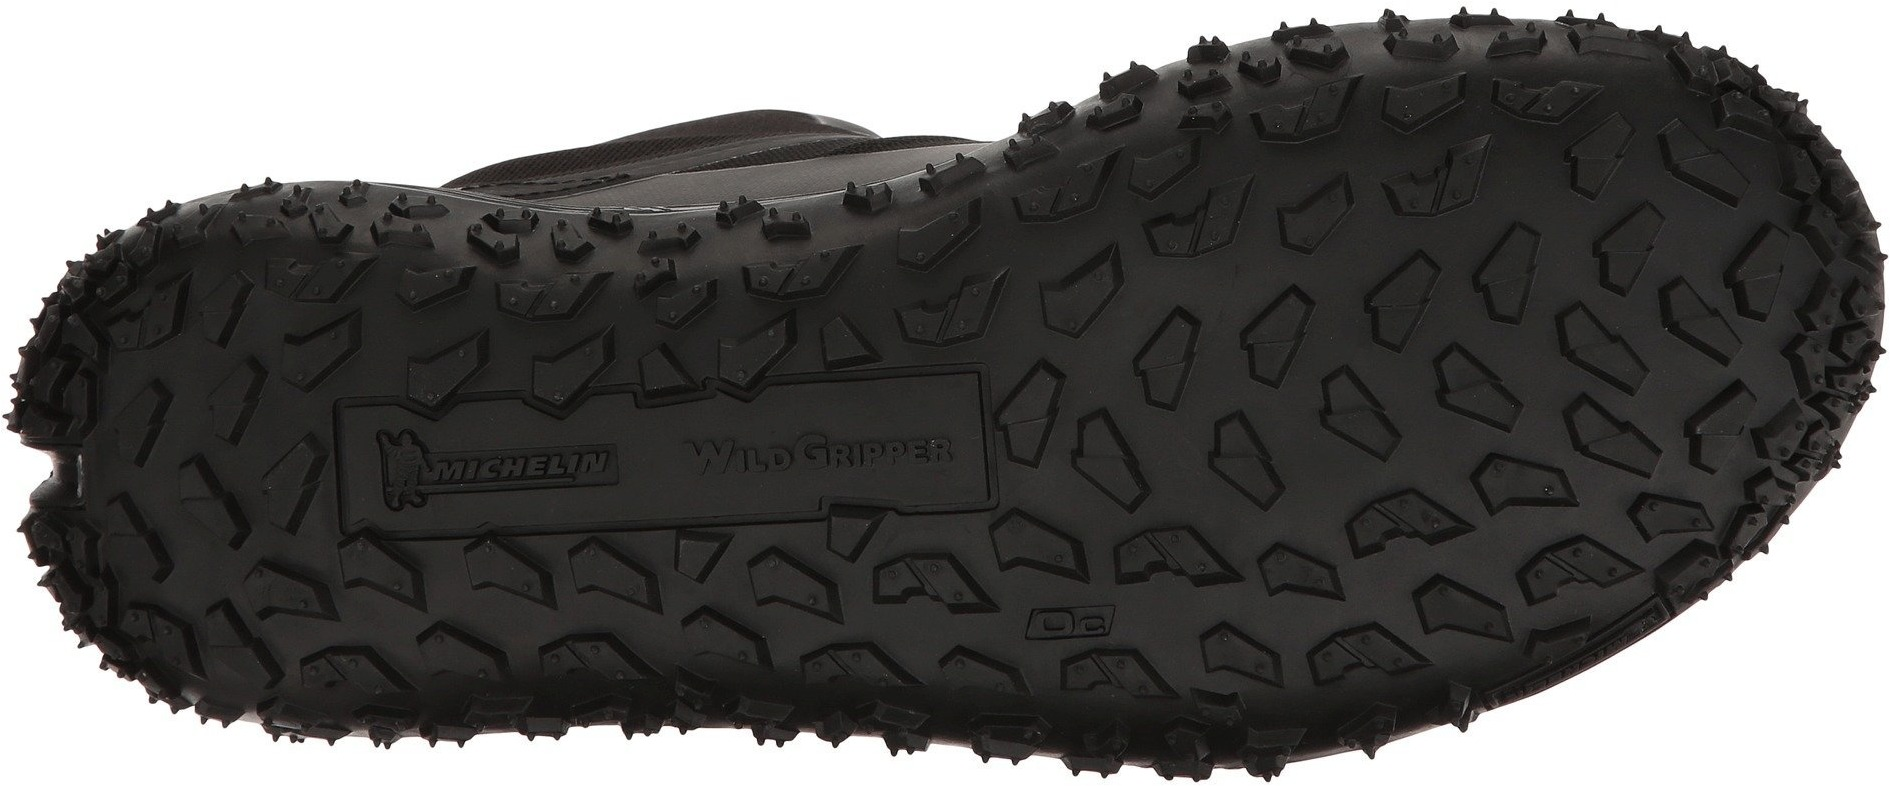chevron: (397, 262, 614, 458), (877, 497, 1097, 690), (454, 493, 670, 682)
quad: (86, 345, 342, 605)
text: (679, 401, 802, 508), (798, 416, 882, 494), (879, 411, 962, 489), (429, 432, 507, 506), (479, 435, 548, 501), (544, 429, 612, 492)
